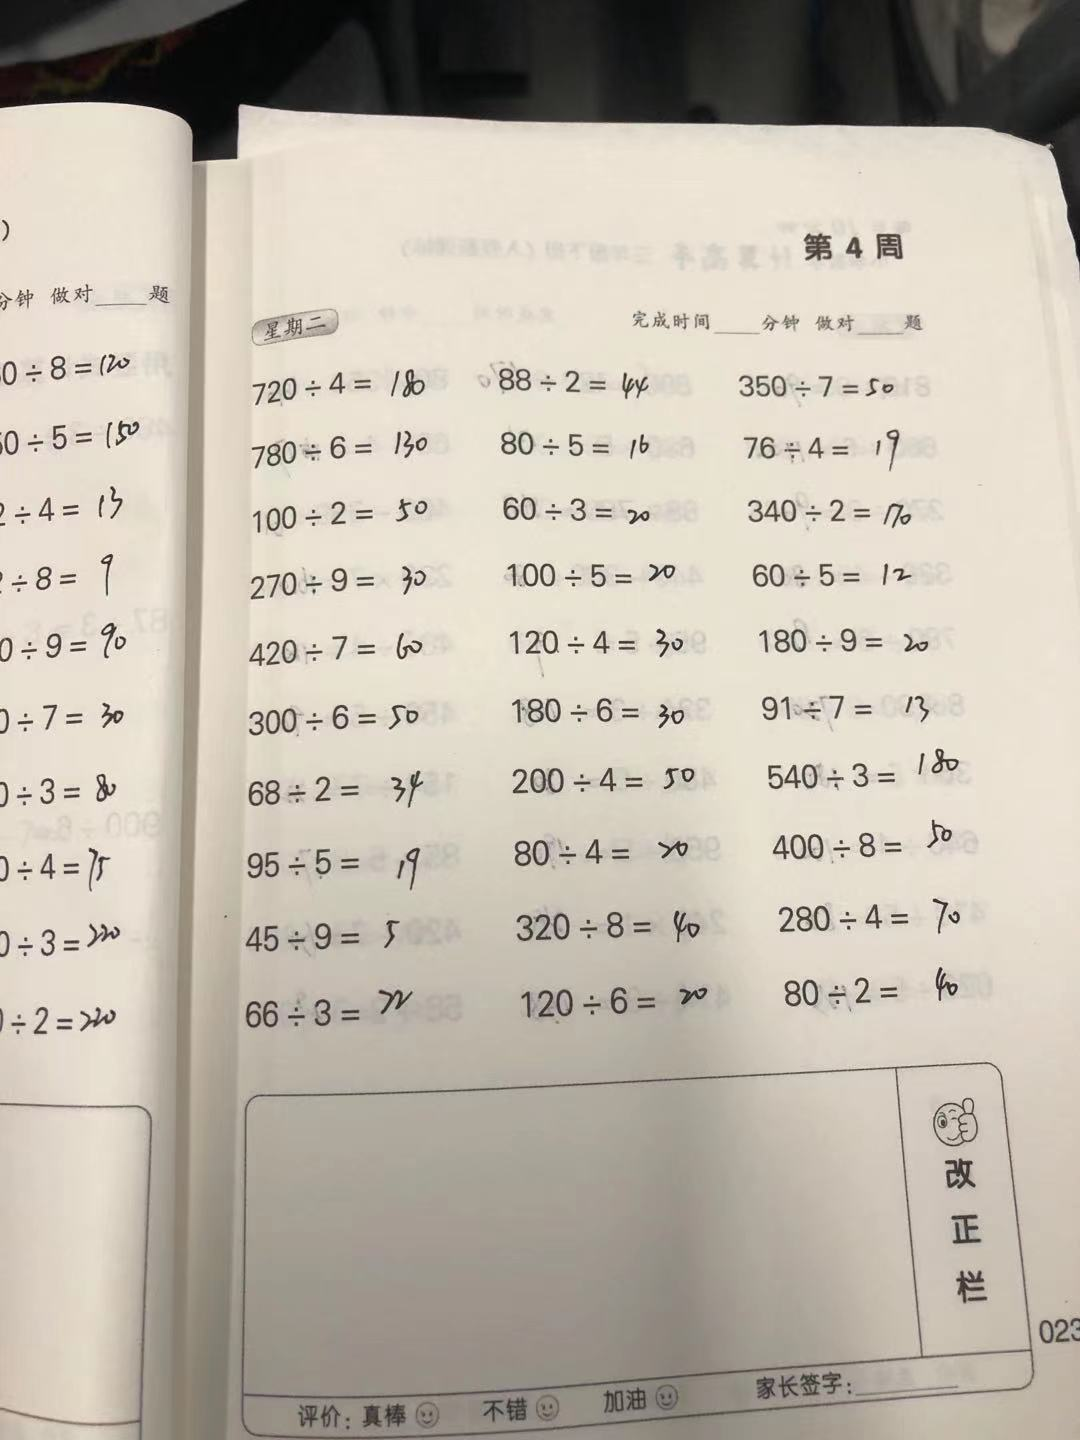equation: (761, 812, 992, 869), (230, 839, 461, 895), (739, 747, 987, 798), (244, 422, 457, 476), (751, 890, 994, 938), (225, 764, 442, 816), (234, 981, 433, 1035), (228, 362, 444, 412), (244, 695, 445, 748), (497, 681, 704, 732), (739, 550, 944, 601), (233, 558, 452, 605), (503, 755, 719, 802), (501, 547, 708, 595), (244, 624, 448, 672), (233, 915, 436, 964), (508, 976, 729, 1020), (244, 495, 459, 541), (762, 969, 984, 1013), (739, 622, 959, 664), (497, 493, 701, 537), (739, 427, 936, 473), (493, 362, 673, 410), (733, 493, 931, 536), (497, 621, 697, 662), (724, 367, 922, 408), (513, 908, 714, 948), (491, 427, 691, 467), (741, 691, 950, 728), (503, 832, 711, 865)
